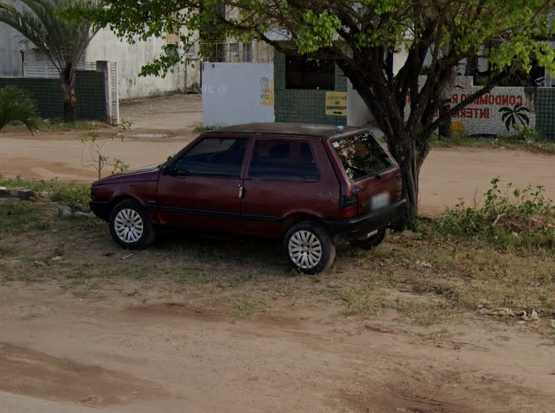car: (86, 119, 409, 277)
